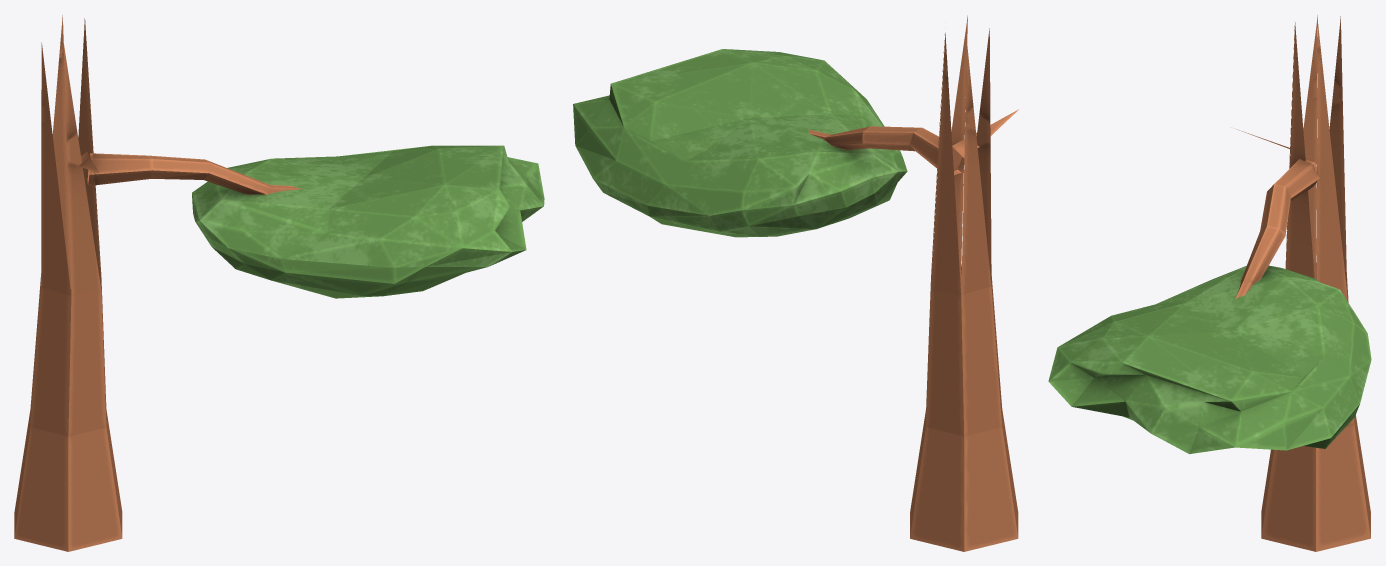
File: BubingaTreeSprout.gltf
3 renders of one model, left to right at view 1: azimuth 30°, elevation 25°; view 2: azimuth 150°, elevation 25°; view 3: azimuth 270°, elevation 25°, orthographic.
Visible parts, largest first — view 1: node-0; view 2: node-0; view 3: node-0.
Part boxes in pixels (x1,y1,x2,y2): node-0: [14, 15, 544, 551]; node-0: [573, 15, 1018, 551]; node-0: [1048, 15, 1371, 551].
Size of the model in its own units: 4.07 by 4.05 by 2.32.
Materials: 1 (1 with a texture image).
